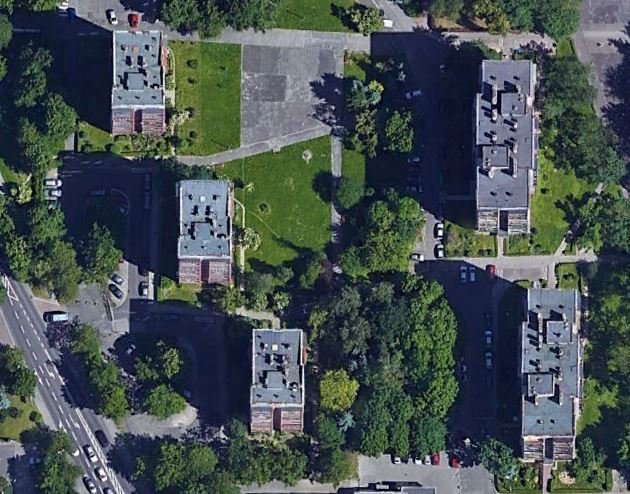block of flats: (514, 283, 589, 464), (468, 58, 540, 240), (246, 324, 314, 442), (173, 175, 238, 293), (106, 28, 169, 138)
